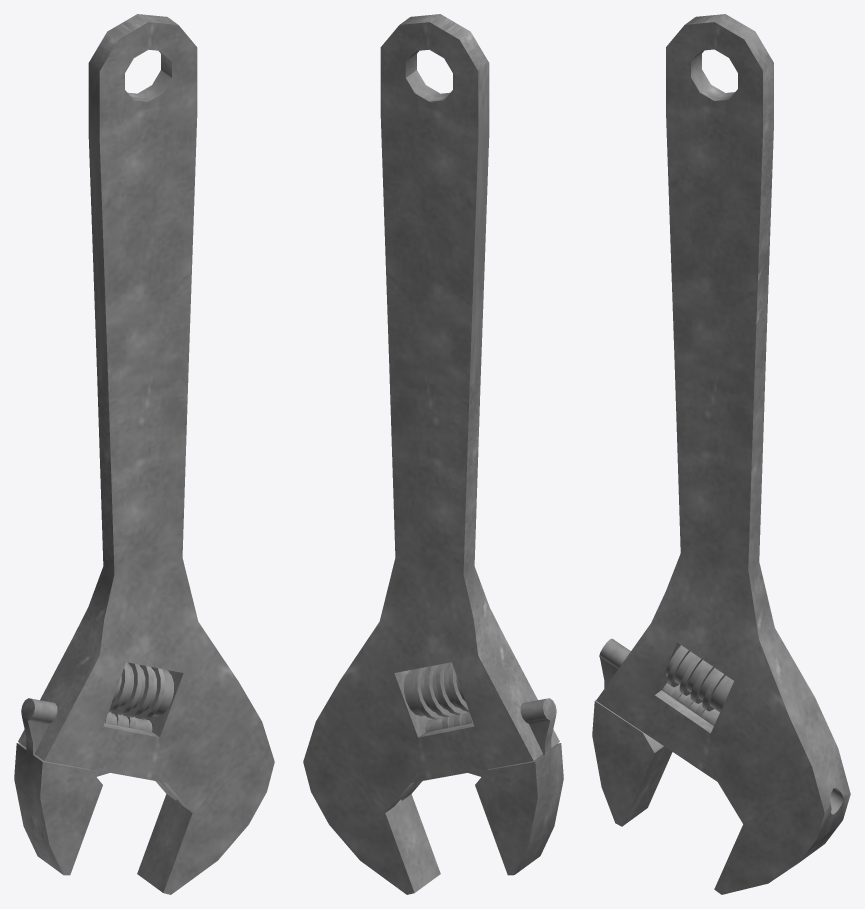
File: tool_wrench_razvodnoi.glb
The picture shows the model from 3 angles, left to right: view 1: azimuth 30°, elevation 25°; view 2: azimuth 150°, elevation 25°; view 3: azimuth 330°, elevation 25°; orthographic projection.
Visible parts, largest first — view 1: tool_wrench_adjustable; view 2: tool_wrench_adjustable; view 3: tool_wrench_adjustable.
Part boxes in pixels (x1,y1,x2,y2): tool_wrench_adjustable: (14, 14, 274, 894); tool_wrench_adjustable: (303, 14, 563, 894); tool_wrench_adjustable: (592, 14, 850, 894).
Size of the model in its own units: 0.0681 by 0.2393 by 0.0149.
Materials: 1 (1 with a texture image).
